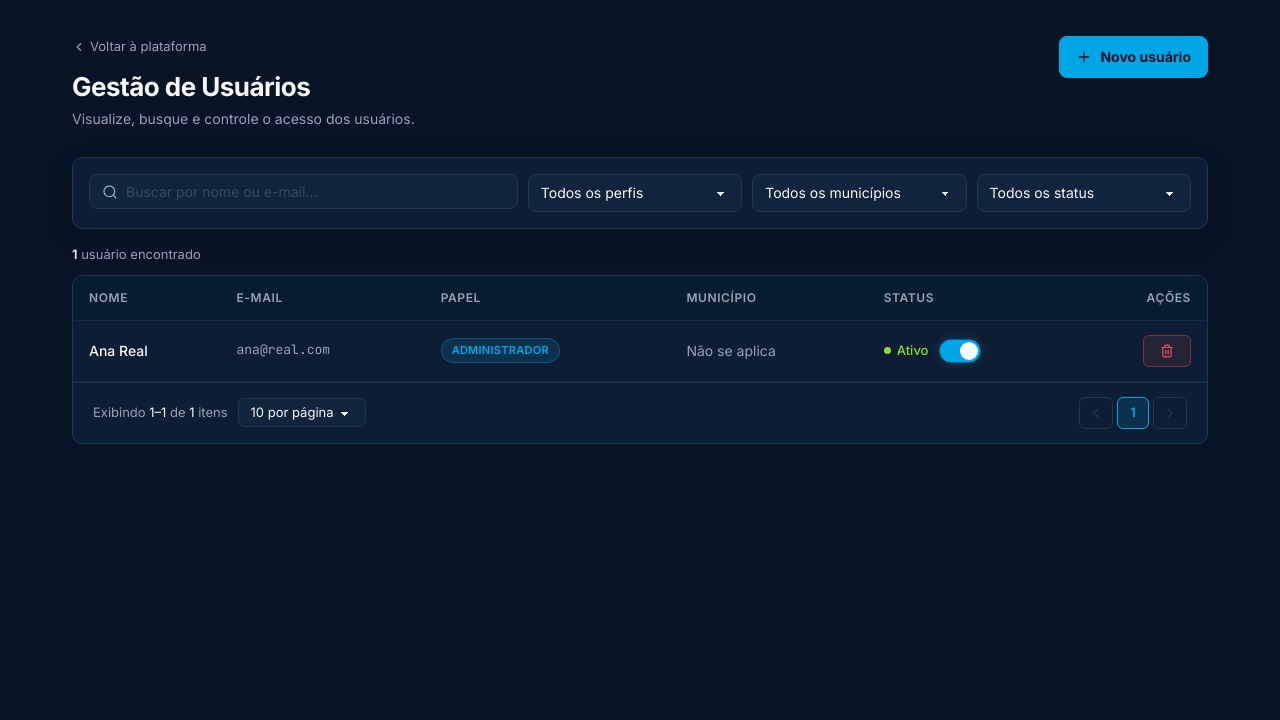
Test case: Gestão de Usuários › exclui o usuário após confirmação
Click the button named "Excluir Ana Real".
click(1167, 351)  # box x1=1143 y1=335 x2=1191 y2=367
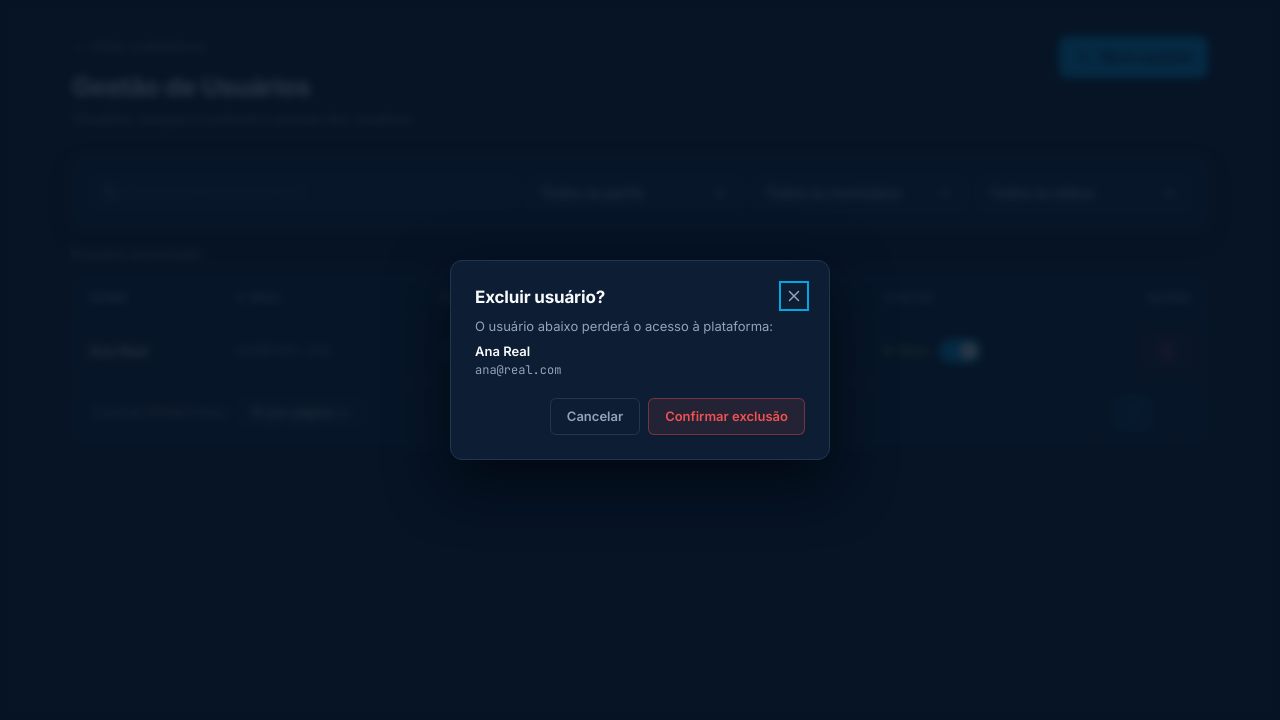
Expected: the text "Ana Real" is shown, x1=475 y1=343 x2=530 y2=359
Click the button "Confirmar exclusão".
click(727, 417)  # box x1=648 y1=398 x2=805 y2=435
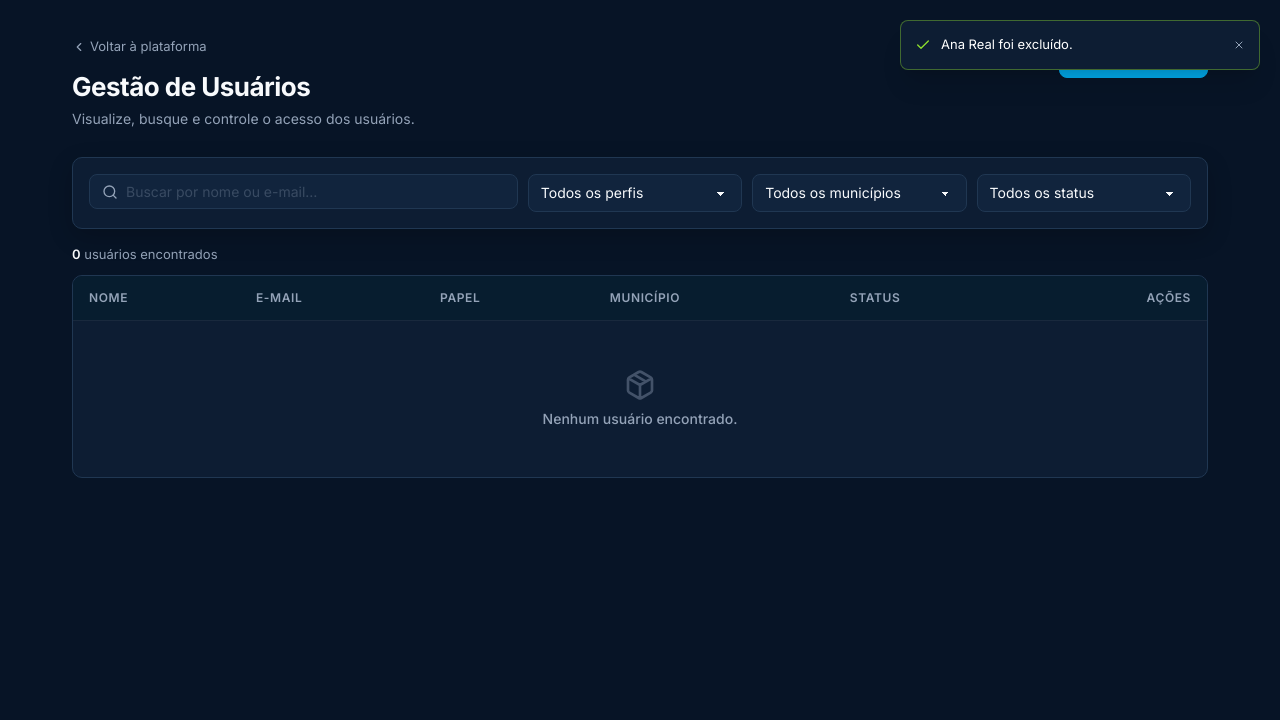
Expected: the text "Nenhum usuário encontrado." is shown 2 times
